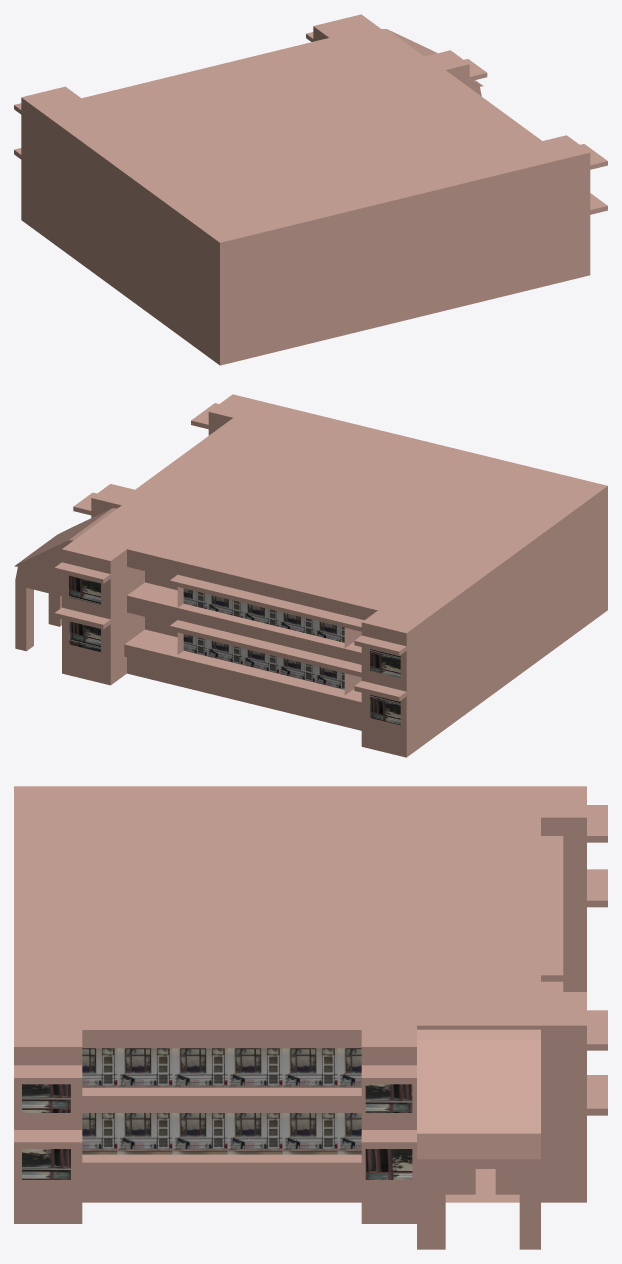
Rendered from Neelkanth.fbx.
3 views of the same model, one above another, from view 1: azimuth 30°, elevation 25°; view 2: azimuth 150°, elevation 25°; view 3: azimuth 270°, elevation 25° (orthographic). The views are drawn at different scales.
Parts seen in each view (by area): view 1: Cube; view 2: Cube; view 3: Cube.
Boxes of the visible parts, x1=… form: Cube: x1=14, y1=14, x2=607, y2=365; Cube: x1=14, y1=394, x2=607, y2=757; Cube: x1=14, y1=786, x2=607, y2=1249.
Size of the model in its own units: 4100 by 1214 by 3627.
3 materials, 2 textured.
